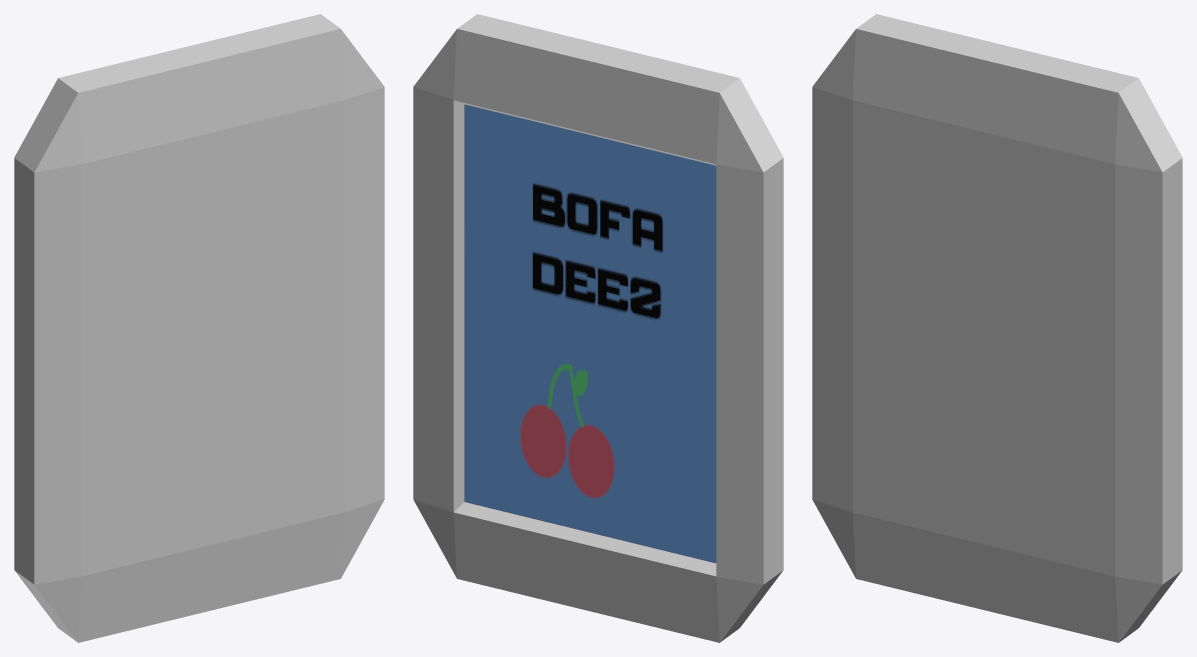
The model's file is datapad.glb.
3 views of the same model, side by side, from view 1: azimuth 30°, elevation 25°; view 2: azimuth 150°, elevation 25°; view 3: azimuth 330°, elevation 25° (orthographic).
Parts seen in each view (by area): view 1: Cube; view 2: Cube; view 3: Cube.
Part boxes in pixels (x1,y1,x2,y2): Cube: (14, 14, 384, 642); Cube: (413, 14, 783, 642); Cube: (812, 14, 1182, 642).
Size of the model in its own units: 0.225 by 0.3375 by 0.03.
Materials: 1 (1 with a texture image).
